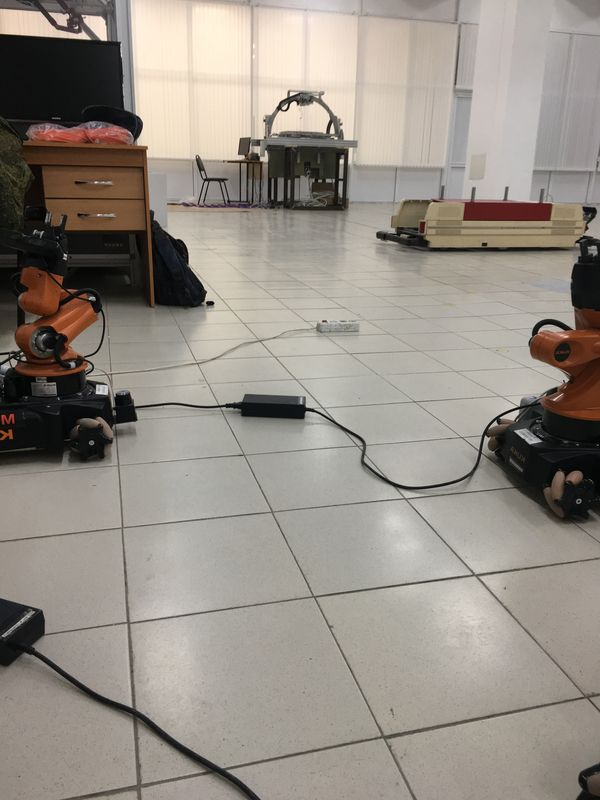socket: (314, 313, 362, 342)
